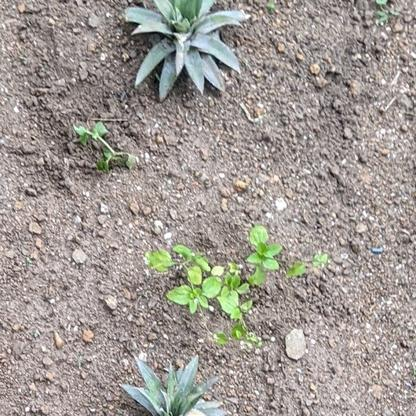pineapple: (119, 1, 250, 103), (121, 350, 224, 416)
weed: (140, 243, 254, 346), (244, 222, 328, 290), (71, 122, 140, 176)
